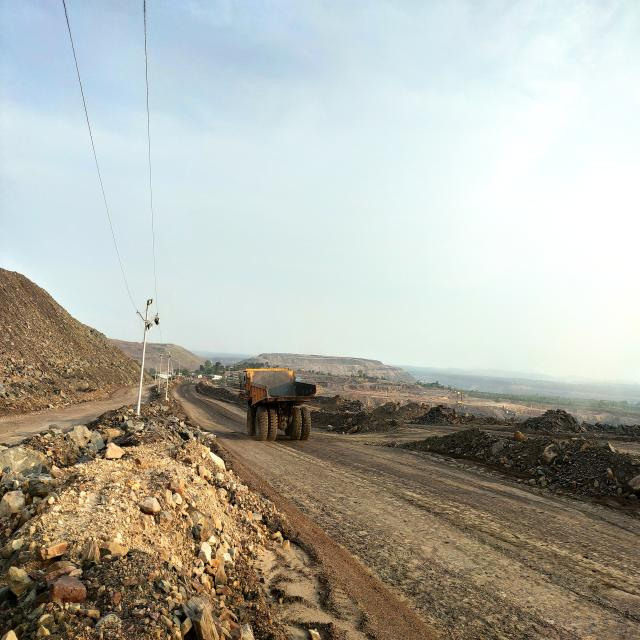dump_truck: (239, 367, 318, 440)
